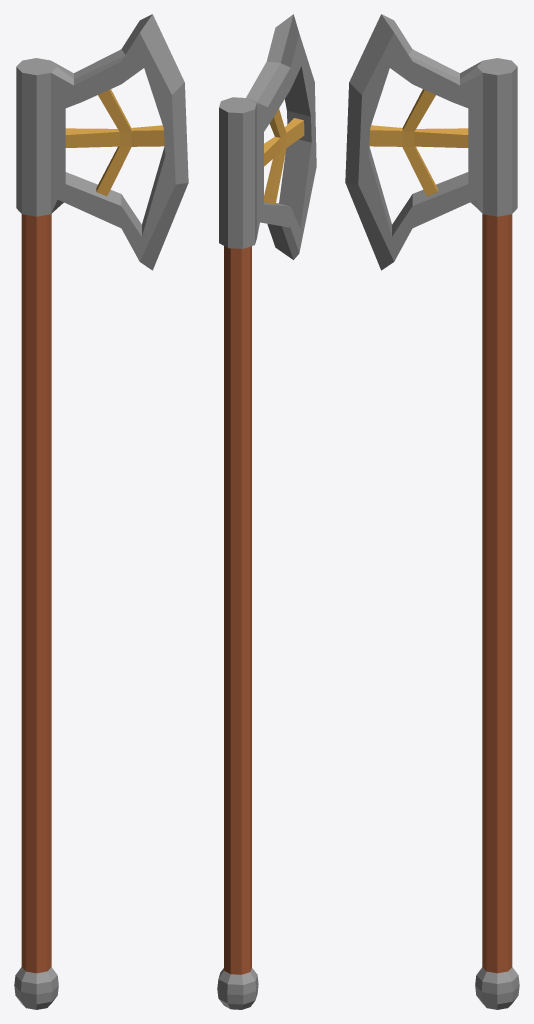
File: Axe.fbx
The picture shows the model from 3 angles, left to right: view 1: azimuth 90°, elevation 25°; view 2: azimuth 150°, elevation 25°; view 3: azimuth 270°, elevation 25°; orthographic projection. The views are drawn at different scales.
Parts seen in each view (by area): view 1: GreatAxe; view 2: GreatAxe; view 3: GreatAxe.
Part boxes in pixels (box(x1,y1,x2,y2)): GreatAxe: box(14, 14, 188, 1009); GreatAxe: box(217, 14, 316, 1009); GreatAxe: box(345, 14, 519, 1009).
Bounding box in the file's own units: 5.4 × 132 × 21.13.
